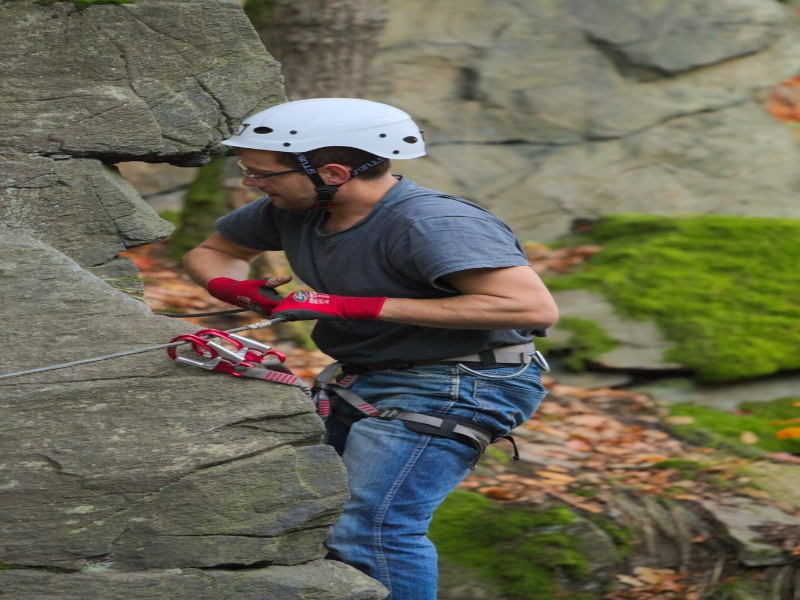helmet: (228, 99, 433, 165)
